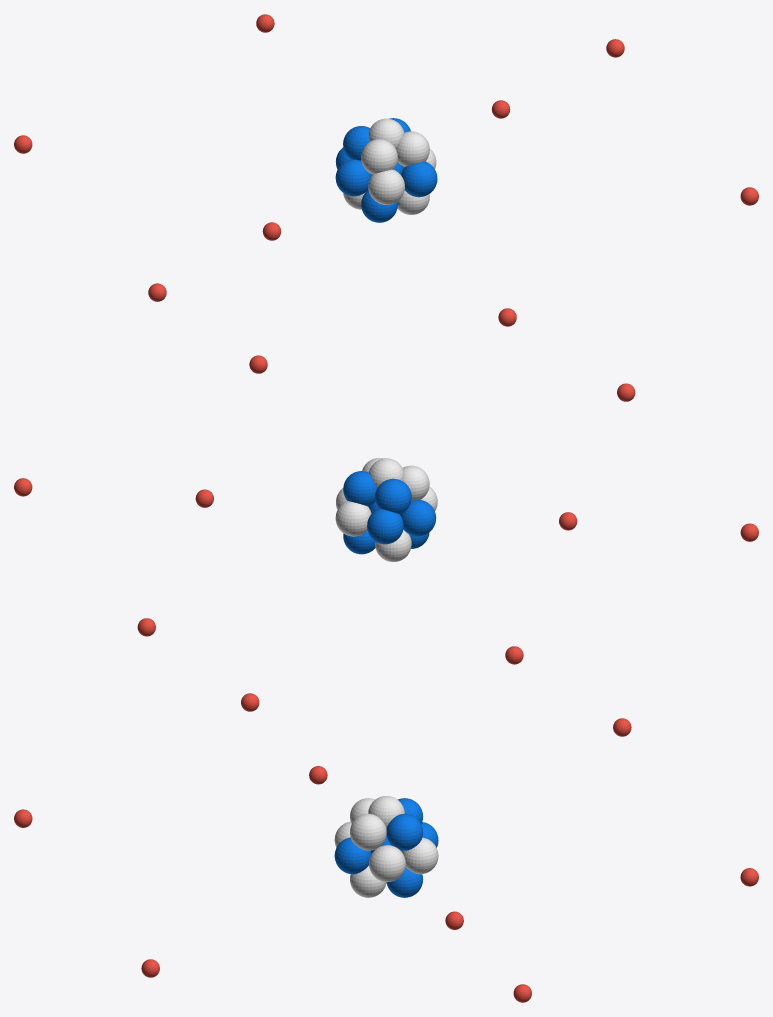
Rendered from oxygen.fbx.
3 renders of one model, top to bottom at view 1: azimuth 30°, elevation 25°; view 2: azimuth 150°, elevation 25°; view 3: azimuth 270°, elevation 25°, orthographic.
Visible parts, largest first — view 1: Neutron3, Neutron5, Proton3, Proton2, Neutron8, Proton6, Neutron6, Proton7, Neutron4; view 2: Proton4, Proton7, Proton3, Neutron1, Proton8, Neutron7, Neutron6, Neutron5, Proton5; view 3: Neutron2, Neutron8, Proton8, Proton2, Neutron1, Neutron4, Proton5, Neutron6.
Boxes of the visible parts, bbox=[...] form: Neutron3: bbox=[368, 169, 404, 204]; Neutron5: bbox=[361, 139, 397, 174]; Proton3: bbox=[335, 159, 371, 196]; Proton2: bbox=[401, 161, 437, 197]; Neutron8: bbox=[396, 131, 429, 166]; Proton6: bbox=[361, 190, 397, 222]; Neutron6: bbox=[368, 118, 404, 148]; Proton7: bbox=[343, 126, 369, 160]; Neutron4: bbox=[397, 190, 429, 214]; Proton4: bbox=[367, 508, 403, 544]; Proton7: bbox=[375, 478, 411, 514]; Proton3: bbox=[400, 499, 436, 536]; Neutron1: bbox=[335, 501, 371, 536]; Proton8: bbox=[343, 471, 376, 506]; Neutron7: bbox=[375, 529, 411, 561]; Neutron6: bbox=[368, 458, 404, 488]; Neutron5: bbox=[403, 465, 429, 500]; Proton5: bbox=[343, 531, 375, 554]; Neutron2: bbox=[369, 845, 405, 882]; Neutron8: bbox=[350, 813, 386, 850]; Proton8: bbox=[386, 813, 423, 850]; Proton2: bbox=[334, 837, 371, 874]; Neutron1: bbox=[402, 837, 438, 874]; Neutron4: bbox=[350, 865, 386, 897]; Proton5: bbox=[386, 867, 423, 897]; Neutron6: bbox=[368, 796, 404, 828].
Bounding box in the file's own units: 1907 × 270 × 2010.
